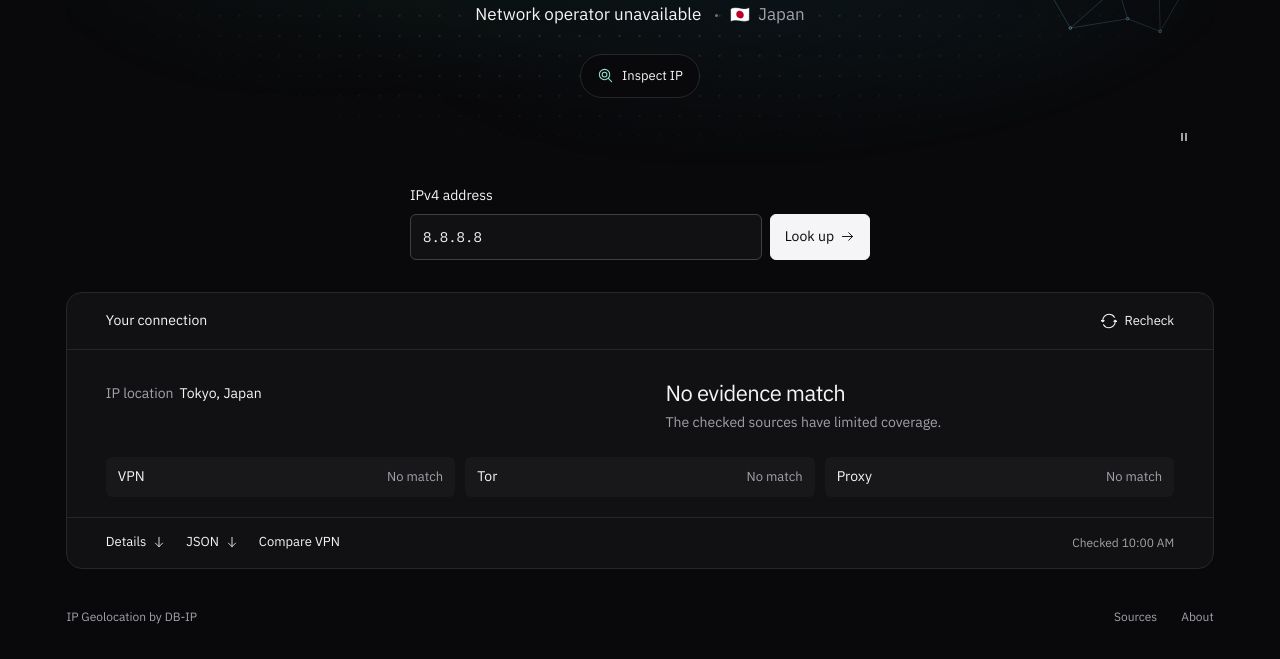
Test case: focused live connection screen › links to DB-IP when the current lookup uses its City Lite release
(page scrolled)
Click the button "Details": click(136, 543) x1=106 y1=518 x2=166 y2=568
(page scrolled)
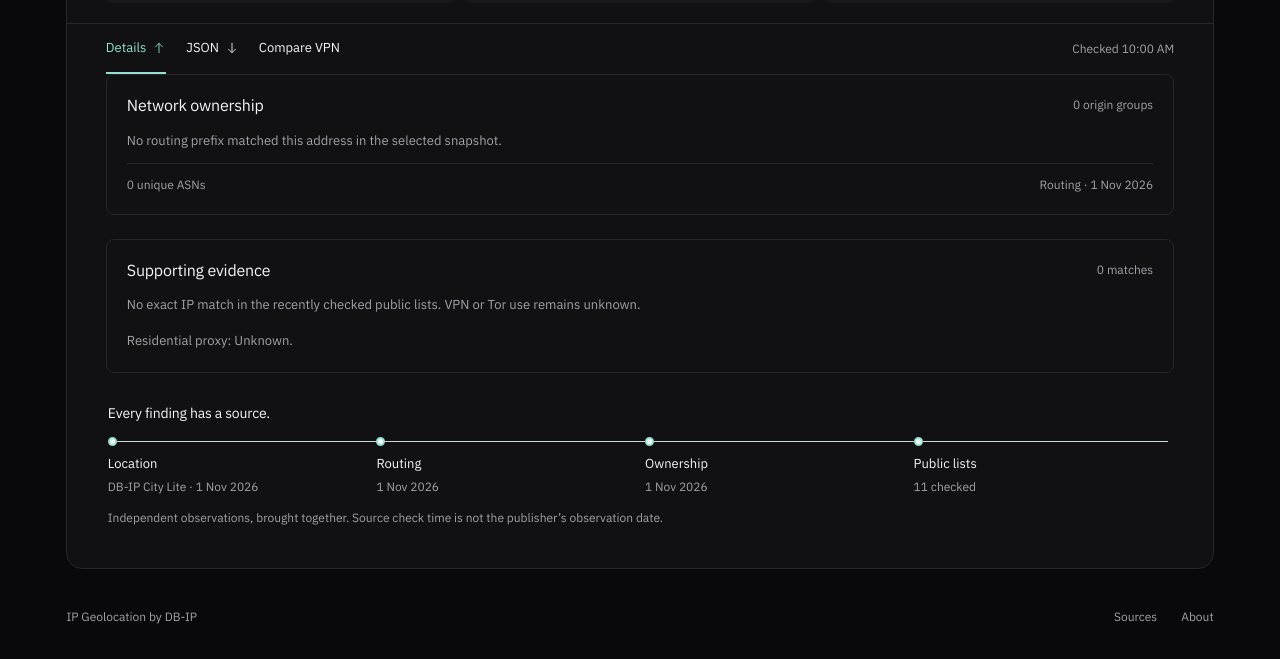
Now the text "DB-IP City Lite · 1 Nov 2026" is shown, box x1=108 y1=479 x2=258 y2=496
